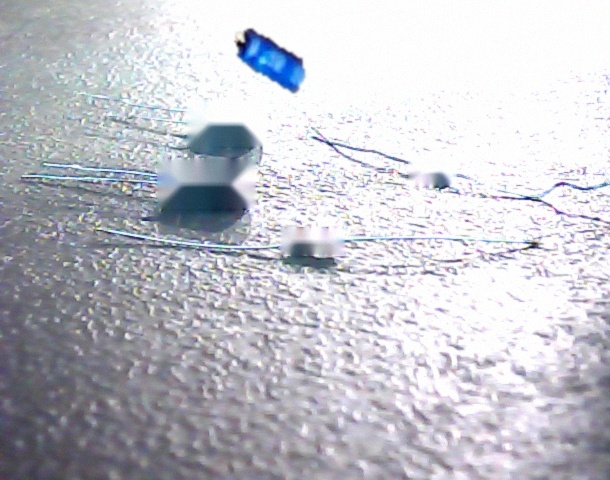capacitor: (235, 29, 305, 93)
